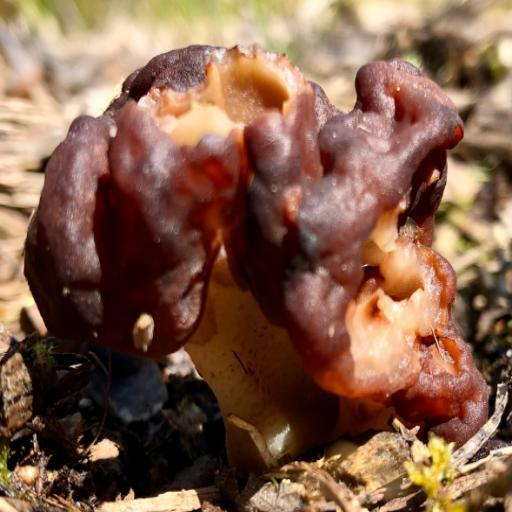mushroom: (8, 24, 491, 480)
